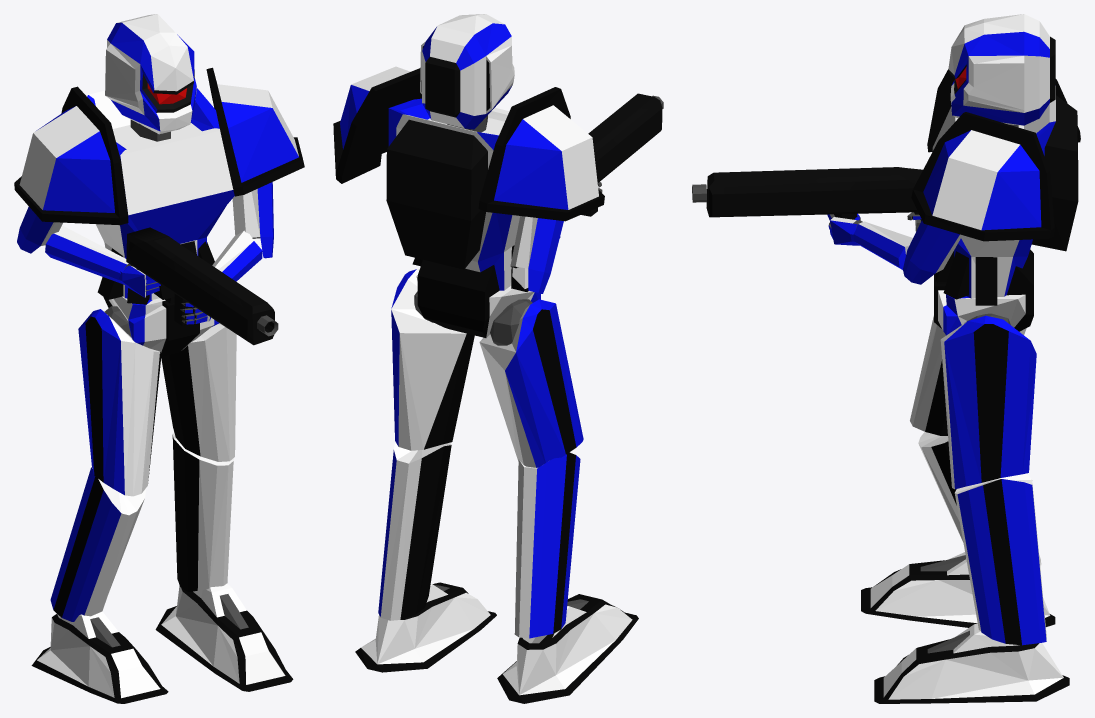
The model's file is robot_animation_000014.obj.
3 views of the same model, side by side, from view 1: azimuth 30°, elevation 25°; view 2: azimuth 150°, elevation 25°; view 3: azimuth 270°, elevation 25° (orthographic). The views are drawn at different scales.
Visible parts, largest first — view 1: Chest_plate_Cube.004, R_Thigh_Cube.005, Cube.002_Cube.059, Head_base_Cube.022, R_Foot.002_Cube.035, R_Thigh.002_Cube.027, Cube_Cube.001, R_Shin_Cube.007, R_Shin.002_Cube.029, R_Foot_Cube, Cube_Cube.021, Pelvis_Cube.006 (+5 smaller); view 2: Chest_plate_Cube.004, Cube.002_Cube.059, R_Thigh_Cube.005, R_Shin_Cube.007, R_Thigh.002_Cube.027, R_Shin.002_Cube.029, Head_base_Cube.022, R_Foot_Cube, R_Foot.002_Cube.035, Cube_Cube.021, Pelvis_Cube.006, Cube_Cube.001 (+2 smaller); view 3: Cube_Cube.021, R_Thigh.002_Cube.027, R_Shin.002_Cube.029, R_Foot.002_Cube.035, Head_base_Cube.022, Cube_Cube.001, Chest_plate_Cube.004, R_Foot_Cube, Pelvis_Cube.006, R_Thigh_Cube.005, L_Arm_Cube.014, R_Shin_Cube.007 (+3 smaller).
Part boxes in pixels (x1,y1,x2,y2): Chest_plate_Cube.004: (87,88,234,304); R_Thigh_Cube.005: (78,309,161,496); Cube.002_Cube.059: (14,86,128,225); Head_base_Cube.022: (105,14,196,134); R_Foot.002_Cube.035: (155,583,293,691); R_Thigh.002_Cube.027: (161,323,236,461); Cube_Cube.001: (126,227,278,345); R_Shin_Cube.007: (50,467,145,621); R_Shin.002_Cube.029: (172,433,233,592); R_Foot_Cube: (31,611,168,703); Cube_Cube.021: (206,67,304,196); Pelvis_Cube.006: (103,296,219,356); Chest_plate_Cube.004: (386,98,528,291); Cube.002_Cube.059: (478,87,604,221); R_Thigh_Cube.005: (479,299,583,467); R_Shin_Cube.007: (514,452,580,638); R_Thigh.002_Cube.027: (391,269,474,450); R_Shin.002_Cube.029: (378,442,451,620); Head_base_Cube.022: (420,14,514,129); R_Foot_Cube: (497,594,638,703); R_Foot.002_Cube.035: (355,582,496,672); Cube_Cube.021: (333,66,421,183); Pelvis_Cube.006: (416,259,540,338); Cube_Cube.001: (581,93,663,216); Cube_Cube.021: (911,112,1054,241); R_Thigh.002_Cube.027: (940,315,1036,489); R_Shin.002_Cube.029: (954,473,1046,645); R_Foot.002_Cube.035: (874,623,1069,703); Head_base_Cube.022: (948,14,1055,125); Cube_Cube.001: (692,167,922,221); Chest_plate_Cube.004: (932,85,1078,305); R_Foot_Cube: (861,552,1055,627); Pelvis_Cube.006: (934,249,1033,335); R_Thigh_Cube.005: (910,316,1026,435); L_Arm_Cube.014: (903,220,962,284); R_Shin_Cube.007: (918,432,1041,565).
Size of the model in its own units: 1.32 by 3.06 by 1.68.
